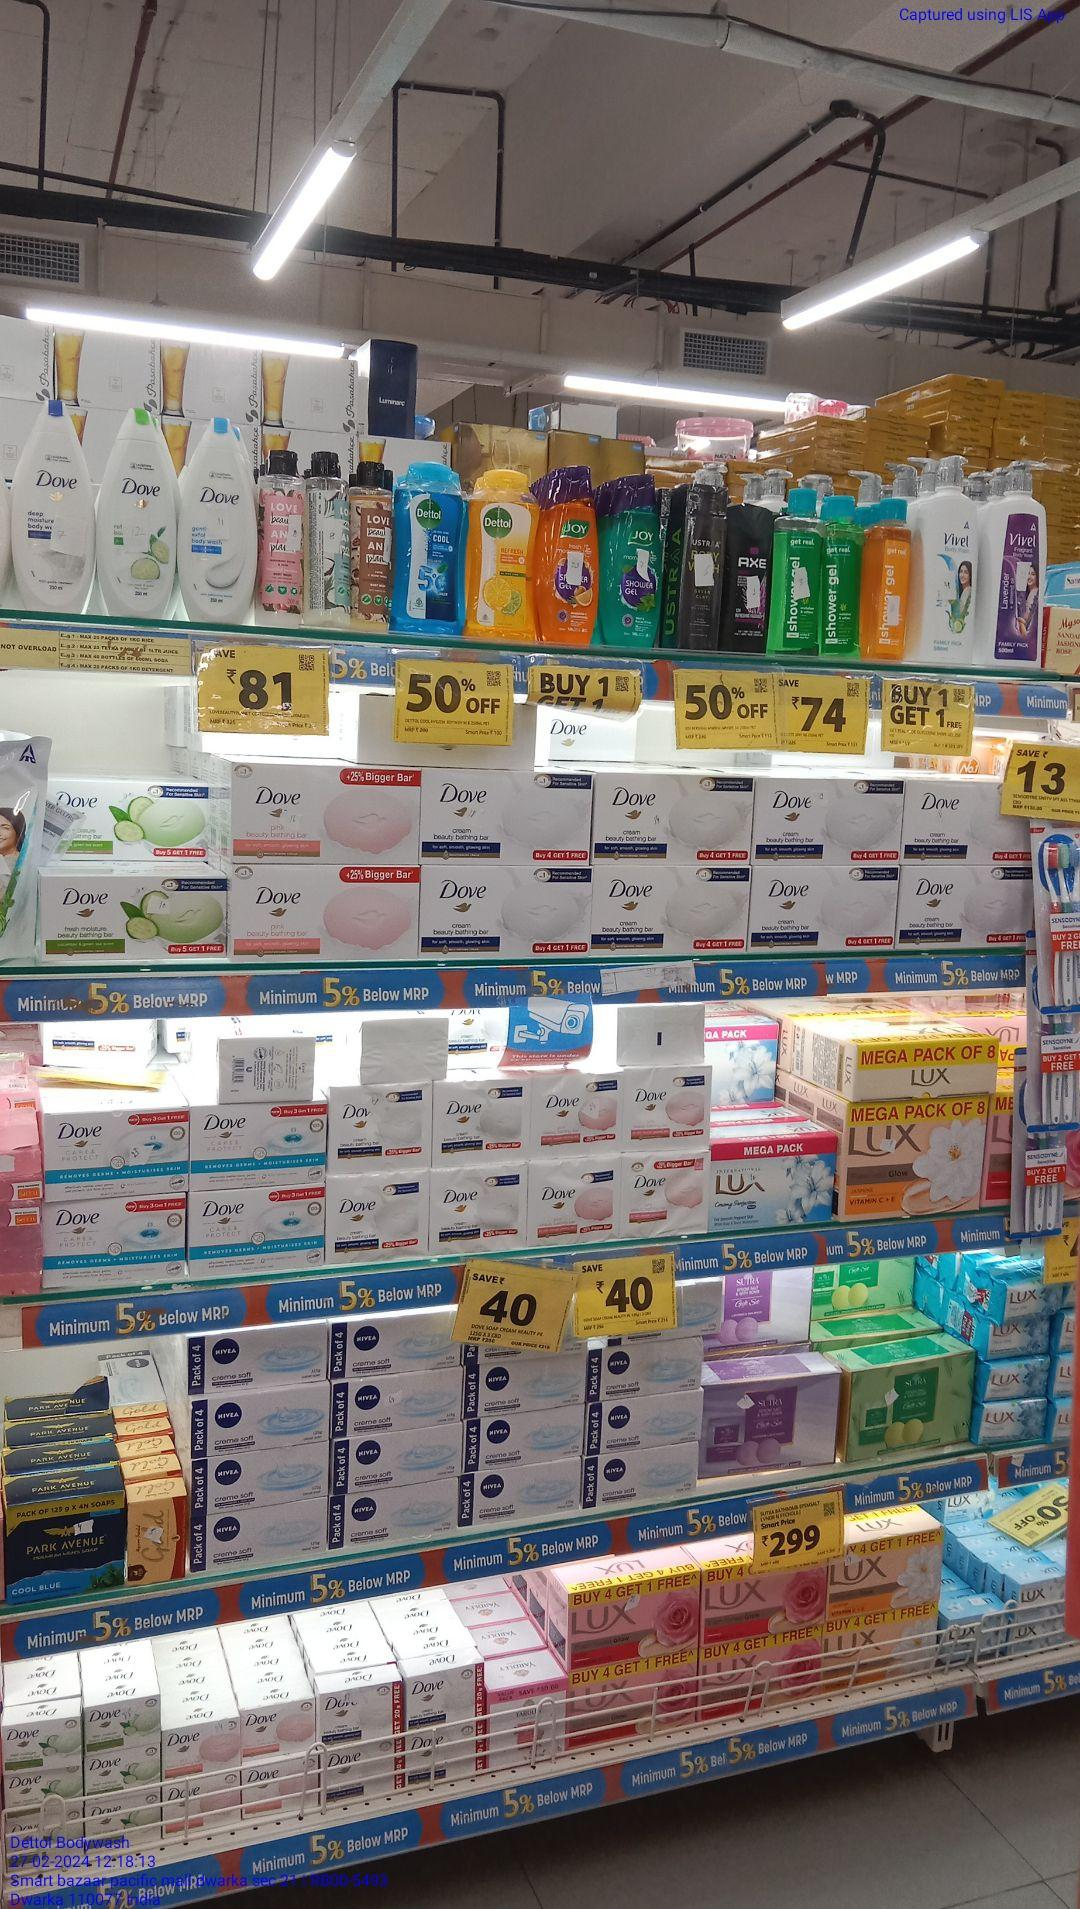Dettol_Bodywash_Cool: (398, 459, 464, 642)
Dettol_Bodywash_Refresh: (471, 468, 539, 644)
Dove_Deep_Moisture_Body_Wash_250ML: (18, 393, 93, 616)
Dove_Gentle_Exfoliating_Body_Wash_250ML: (185, 416, 256, 629)
Dove_Refreshing_Body_Wash_250ML: (101, 406, 180, 624)
